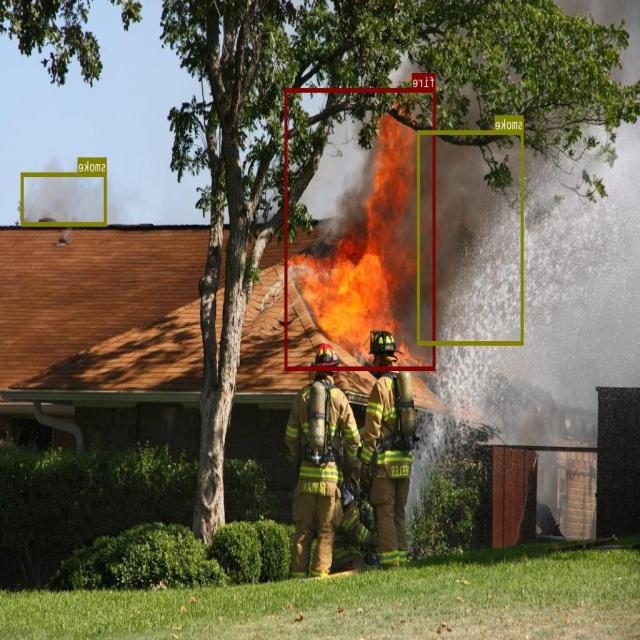fire: (285, 88, 436, 370)
smoke: (418, 130, 524, 344), (22, 172, 108, 226)
